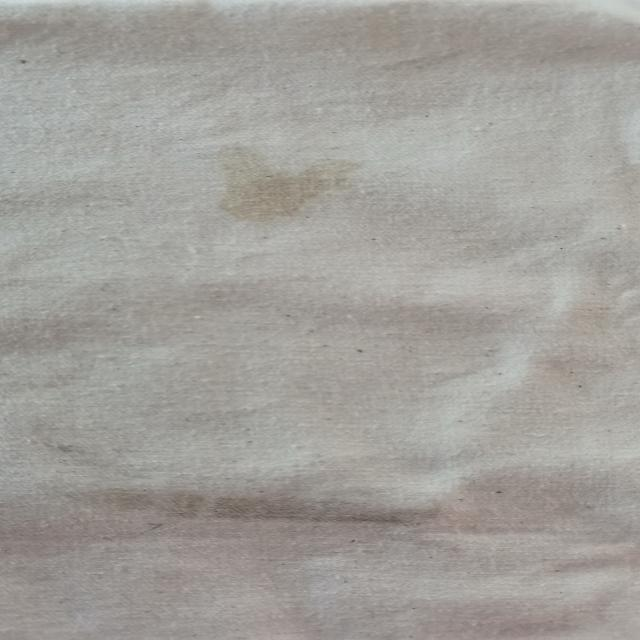taaaches: (51, 478, 462, 528), (198, 133, 362, 224), (28, 430, 116, 468)
